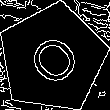O_SE: (20, 25, 85, 92)
